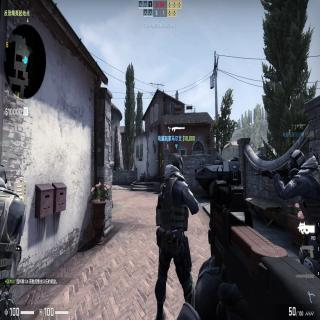CT-Head: (289, 151, 306, 172), (173, 152, 183, 174)
